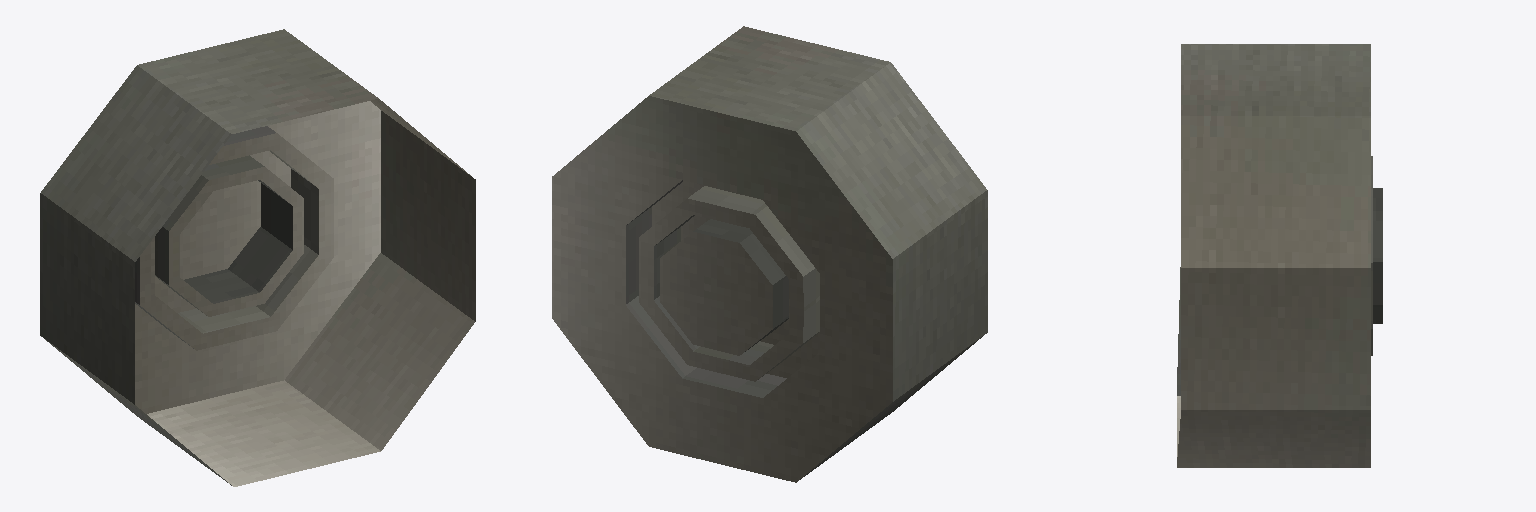
3 views of the same model, side by side, from view 1: azimuth 30°, elevation 25°; view 2: azimuth 150°, elevation 25°; view 3: azimuth 270°, elevation 25° (orthographic).
Parts seen in each view (by area): view 1: Cylinder.002; view 2: Cylinder.002; view 3: Cylinder.002.
Boxes of the visible parts, <box> form: Cylinder.002: <box>40,29,475,486</box>; Cylinder.002: <box>552,26,987,482</box>; Cylinder.002: <box>1177,44,1382,467</box>.
Size of the model in its own units: 0.4755 by 0.4692 by 0.2502.
1 materials, 1 textured.